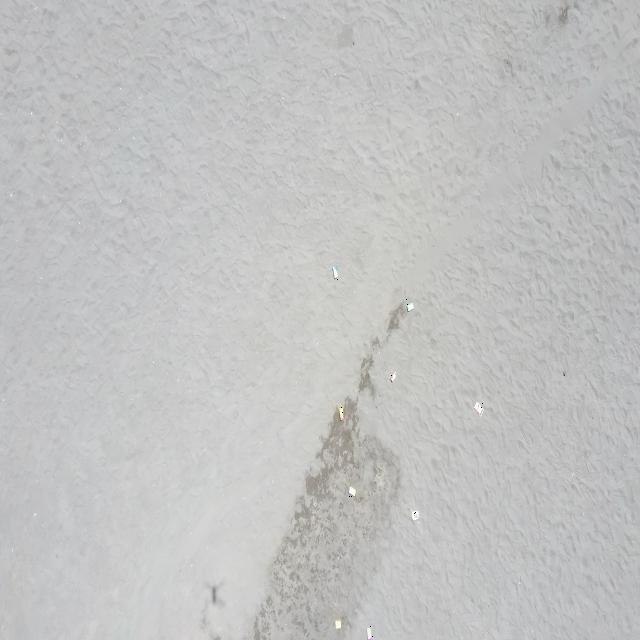retort-pouch: (474, 400, 484, 418), (410, 509, 420, 523), (331, 265, 339, 281), (406, 299, 414, 313), (348, 485, 356, 499), (366, 626, 373, 640), (338, 404, 344, 420), (334, 619, 342, 630), (390, 371, 397, 383)
